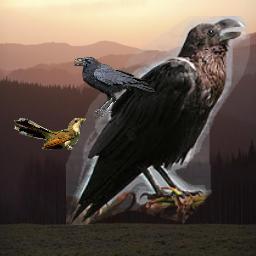Crow: (66, 16, 250, 225), (74, 57, 155, 117)
Cuckoo: (14, 118, 86, 150)
